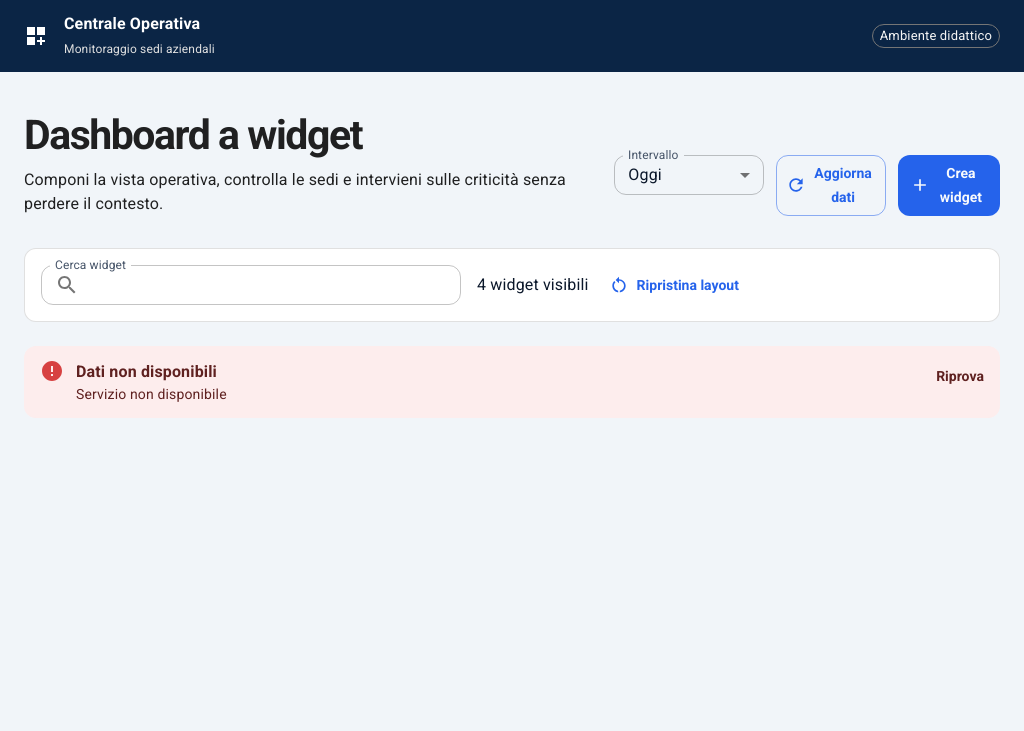
it: Widget dashboard soluzione › recupera da un errore con il retry
The image size is (1024, 731).
Expected: the text "Servizio non disponibile" is shown, [76,386,227,402]
Step 1. Click the button "Riprova" → point(960, 376), box [928,356,992,396]
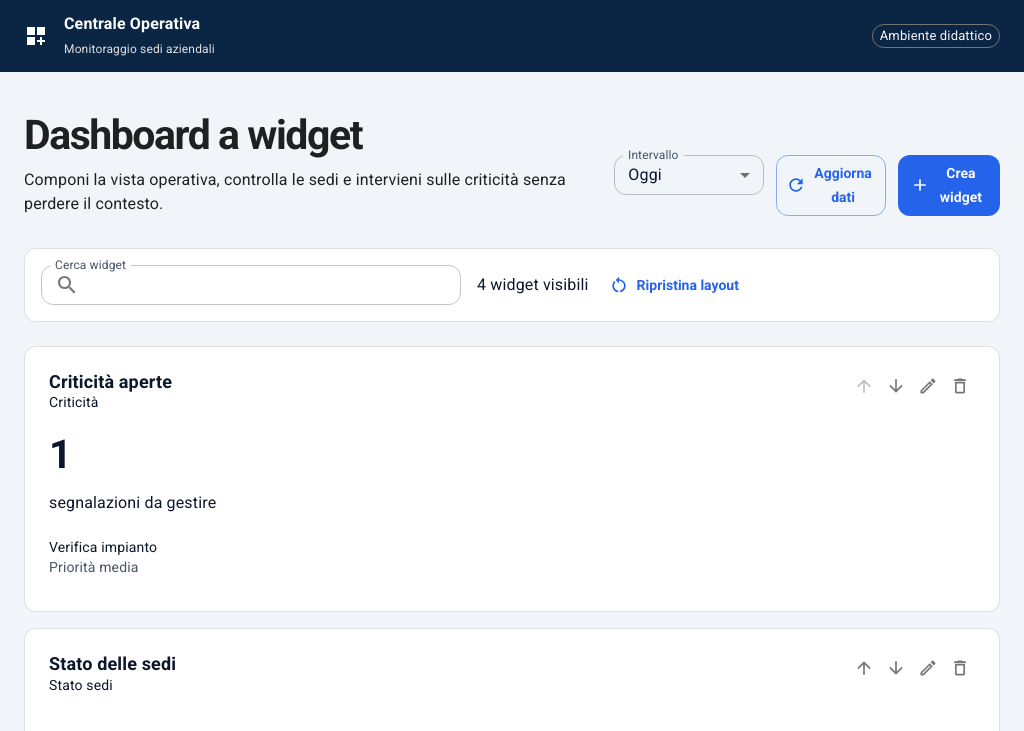
Now the heading "Criticità aperte" is shown, box [49,371,172,392]
